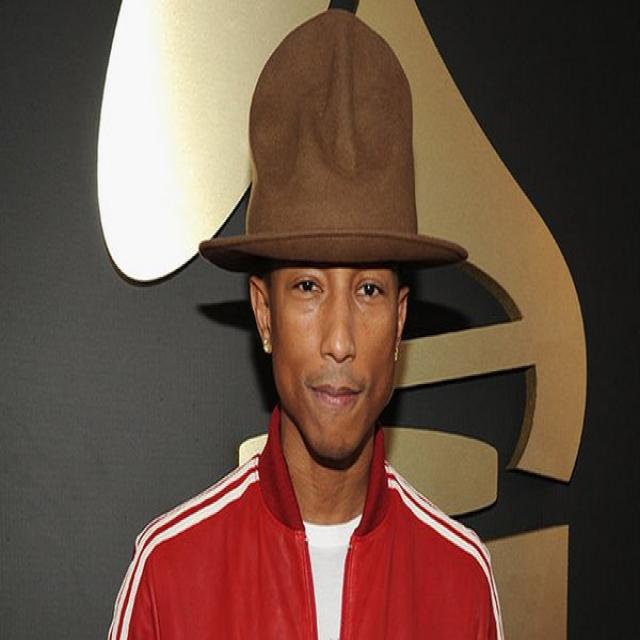hat: (198, 6, 471, 462)
